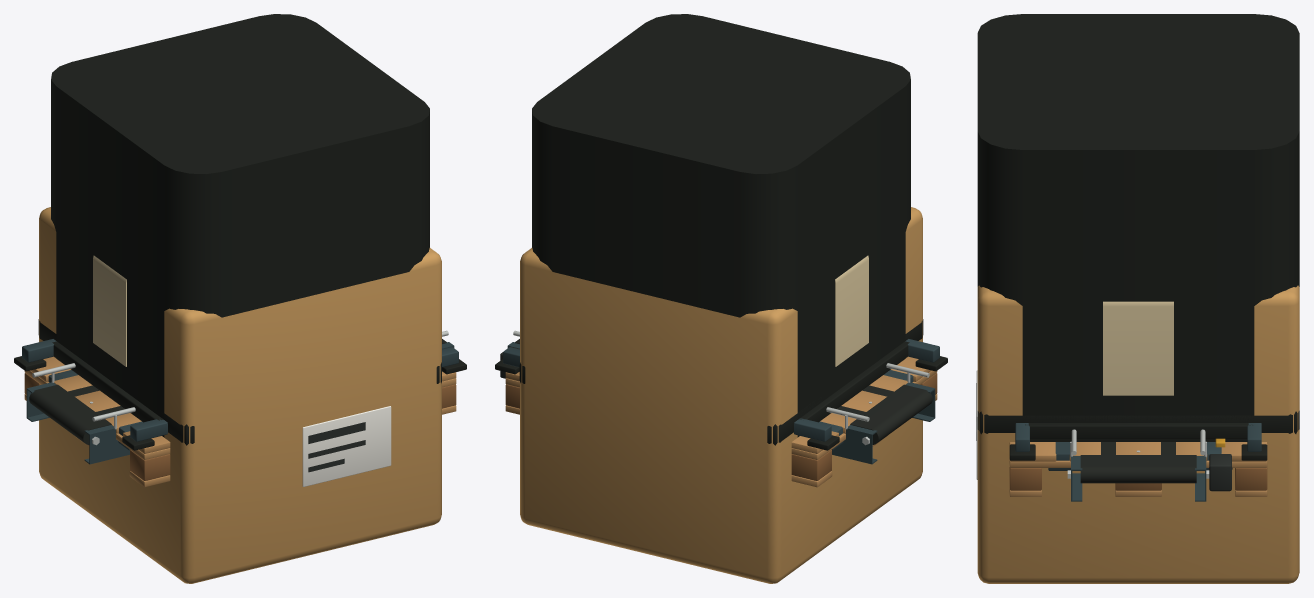
File: props.glb
3 renders of one model, left to right at view 1: azimuth 30°, elevation 25°; view 2: azimuth 150°, elevation 25°; view 3: azimuth 270°, elevation 25°, orthographic. The views are drawn at different scales.
Visible parts, largest first — view 1: tube, carton, conveyor_belt, pallet, jig, foot; view 2: tube, carton, conveyor_belt, pallet, jig, foot; view 3: tube, carton, conveyor_belt, pallet, jig, foot, weld_table.
Boxes of the visible parts, x1,y1,x2,y2 form: tube: (51,14,429,437); carton: (39,207,441,583); conveyor_belt: (26,330,454,464); pallet: (24,356,456,487); jig: (14,339,466,450); foot: (38,319,441,445); tube: (532,14,910,437); carton: (520,207,922,583); conveyor_belt: (500,330,935,464); pallet: (505,356,937,487); jig: (495,339,947,450); foot: (519,319,923,445); tube: (977,14,1299,441); carton: (976,285,1299,583); conveyor_belt: (1067,429,1232,501); pallet: (1009,442,1267,496); jig: (1009,423,1267,460); foot: (977,410,1299,434); weld_table: (1048,442,1221,470).
Bounding box in the file's own units: 1.42 × 1.52 × 1.
